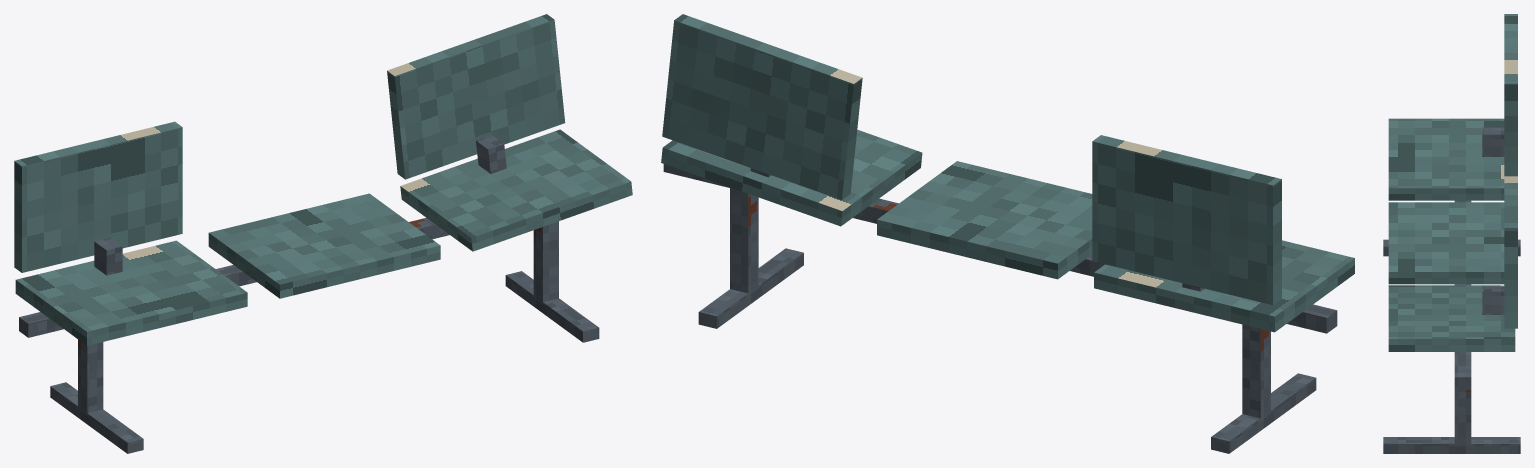
Rendered from bench.gltf.
3 renders of one model, left to right at view 1: azimuth 30°, elevation 25°; view 2: azimuth 150°, elevation 25°; view 3: azimuth 270°, elevation 25°, orthographic. The views are drawn at different scales.
Visible parts, largest first — view 1: bench; view 2: bench; view 3: bench.
Boxes of the visible parts, left/top/right/bottom form: bench: left=14, top=14, right=632, bottom=453; bench: left=661, top=14, right=1354, bottom=453; bench: left=1383, top=14, right=1520, bottom=453.
Bounding box in the file's own units: 2.2 × 0.9401 × 0.5.
Materials: 2 (2 with a texture image).
